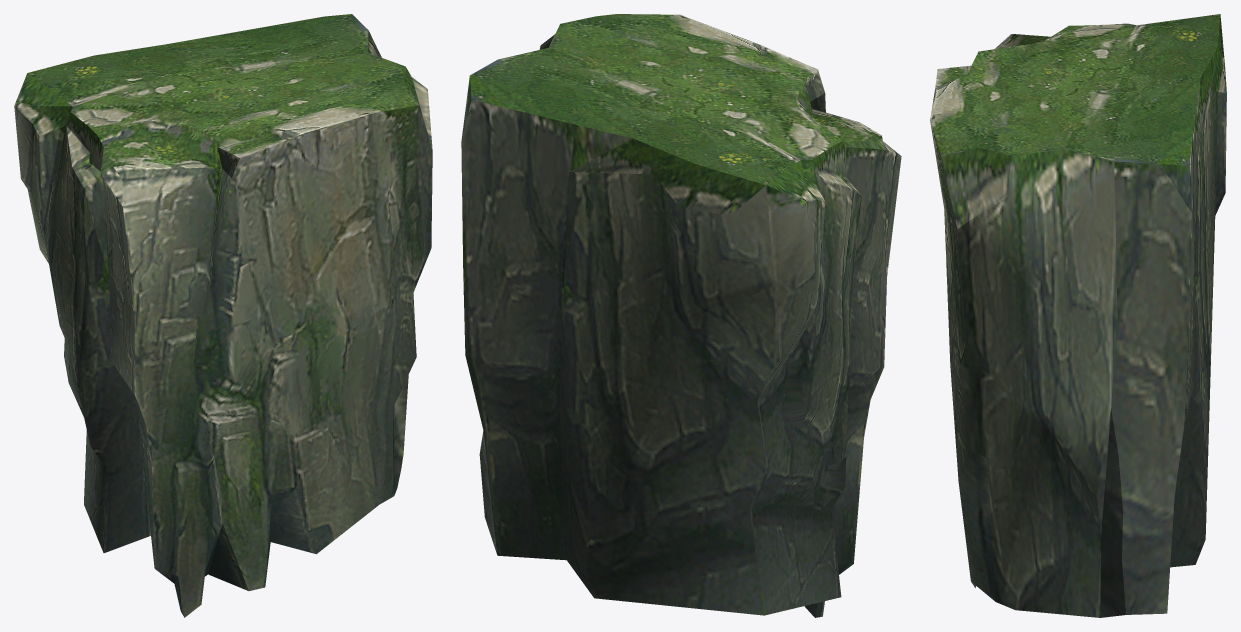
Rendered from 4006_Item_shitou_9.FBX.
The picture shows the model from 3 angles, left to right: view 1: azimuth 30°, elevation 25°; view 2: azimuth 150°, elevation 25°; view 3: azimuth 270°, elevation 25°; orthographic projection. The views are drawn at different scales.
Parts seen in each view (by area): view 1: 4006_Item_shitou_9; view 2: 4006_Item_shitou_9; view 3: 4006_Item_shitou_9.
Part boxes in pixels (bbox=[...]): 4006_Item_shitou_9: bbox=[14, 14, 432, 617]; 4006_Item_shitou_9: bbox=[461, 14, 901, 617]; 4006_Item_shitou_9: bbox=[930, 14, 1226, 617].
Size of the model in its own units: 654 by 467 by 923.
